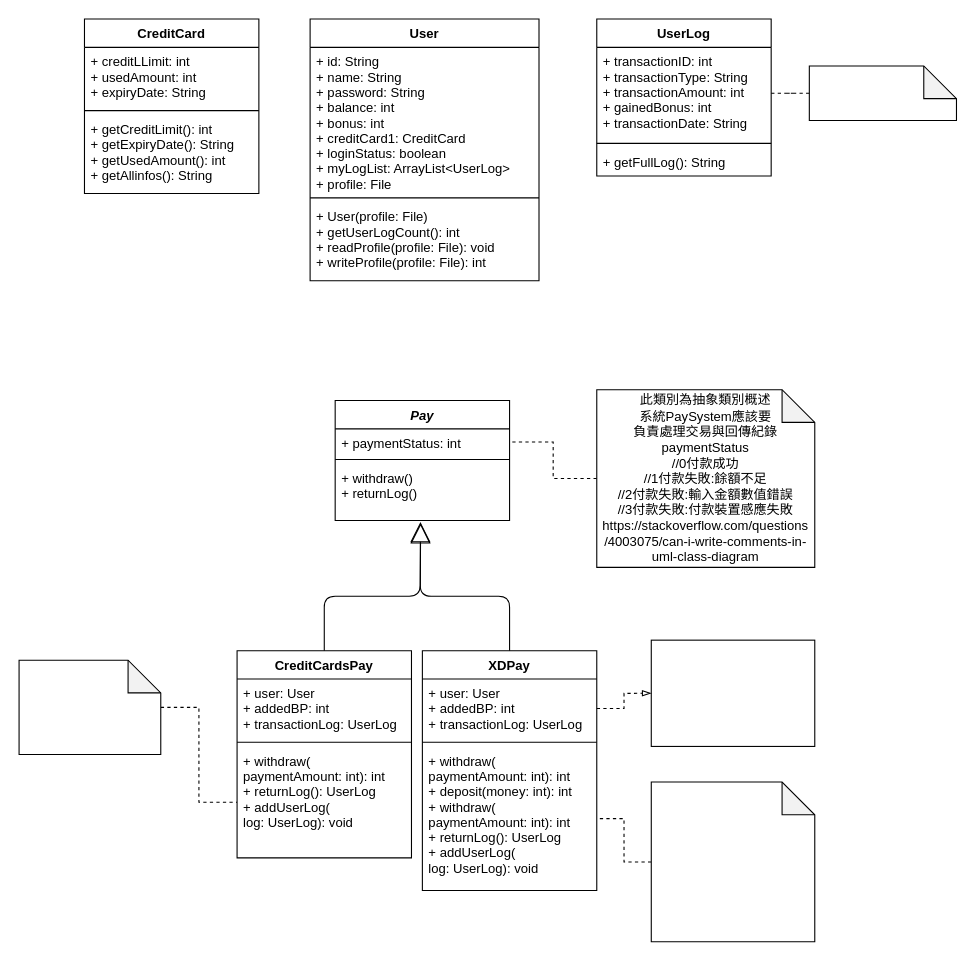
The diagram is 976 pixels wide and 961 high, and some of its shapes have lost their labels. The centre of each missing label's shape, as x and y in pixels:
"<<Interface>> Deposit + deposit(money: int): int" belongs at point (732, 692).
"deposit: 當儲值成功 單筆儲值滿1000元, 紅利增加100點 withdraw:當每次消費 滿500元,紅利 額外增加10點" belongs at point (732, 861).
"withdraw: 當每次消費 滿1000元,紅利 額外增加100點" belongs at point (89, 706).
"日期格式為 yyyyMMddHHmmss" belongs at point (882, 92).
